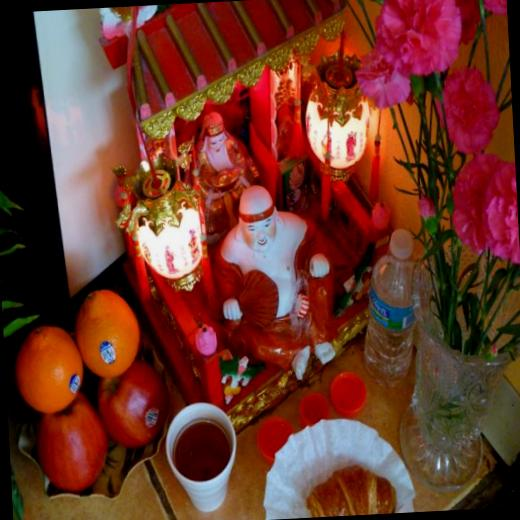Grape: (72, 285, 144, 378), (14, 324, 86, 413)
